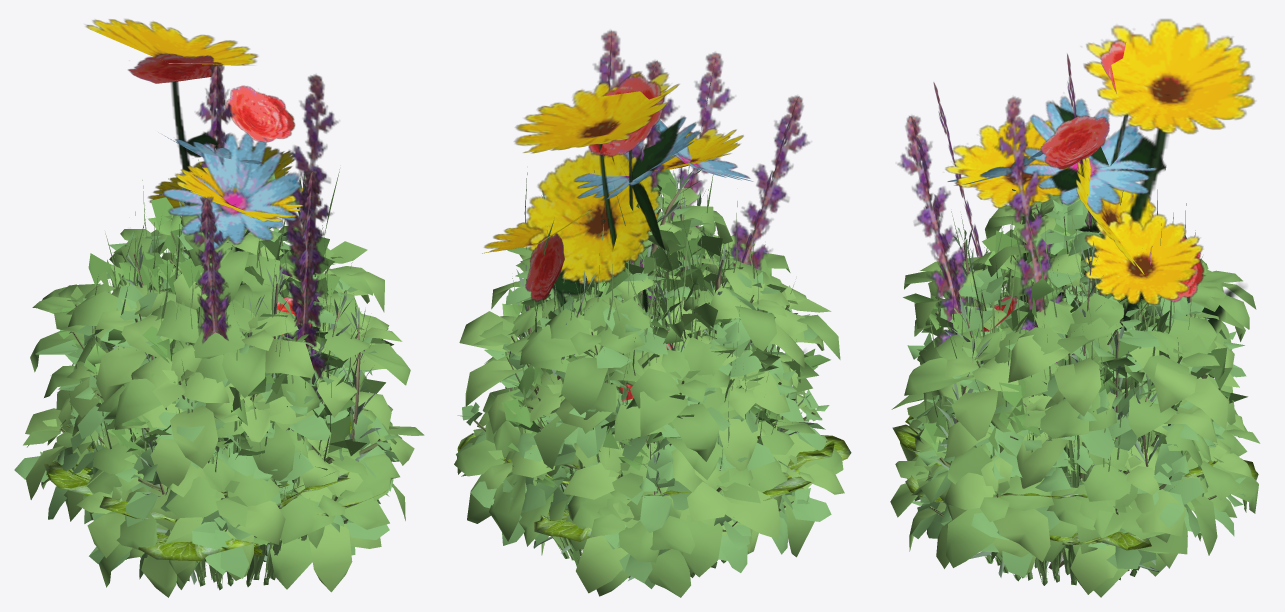
Rendered from plantes.glb.
The picture shows the model from 3 angles, left to right: view 1: azimuth 30°, elevation 25°; view 2: azimuth 150°, elevation 25°; view 3: azimuth 270°, elevation 25°; orthographic projection.
Parts seen in each view (by area): view 1: basilic, fleurs_a, menthe, fleurs_b, persil, ciboulette, laitue, romarin; view 2: basilic, menthe, fleurs_a, fleurs_b, persil, ciboulette, laitue, romarin; view 3: basilic, fleurs_a, menthe, persil, fleurs_b, ciboulette, romarin, laitue.
Boxes of the visible parts, bbox=[...] form: basilic: bbox=[23, 208, 424, 597]; fleurs_a: bbox=[86, 19, 338, 561]; menthe: bbox=[14, 173, 408, 579]; fleurs_b: bbox=[128, 53, 312, 374]; persil: bbox=[58, 197, 393, 565]; ciboulette: bbox=[69, 157, 368, 590]; laitue: bbox=[44, 405, 392, 560]; romarin: bbox=[105, 174, 380, 584]; basilic: bbox=[454, 188, 844, 597]; menthe: bbox=[456, 192, 833, 588]; fleurs_a: bbox=[482, 30, 809, 360]; fleurs_b: bbox=[525, 75, 752, 401]; persil: bbox=[501, 169, 830, 566]; ciboulette: bbox=[505, 170, 796, 577]; laitue: bbox=[457, 387, 851, 541]; romarin: bbox=[490, 162, 810, 580]; basilic: bbox=[890, 194, 1260, 597]; fleurs_a: bbox=[897, 19, 1255, 442]; menthe: bbox=[907, 187, 1246, 577]; persil: bbox=[903, 189, 1247, 572]; fleurs_b: bbox=[947, 40, 1204, 331]; ciboulette: bbox=[929, 189, 1213, 585]; romarin: bbox=[935, 204, 1208, 577]; laitue: bbox=[892, 416, 1258, 562].
Bounding box in the file's own units: 0.15 × 0.22 × 0.1533.
Materials: 16 (2 with a texture image).
